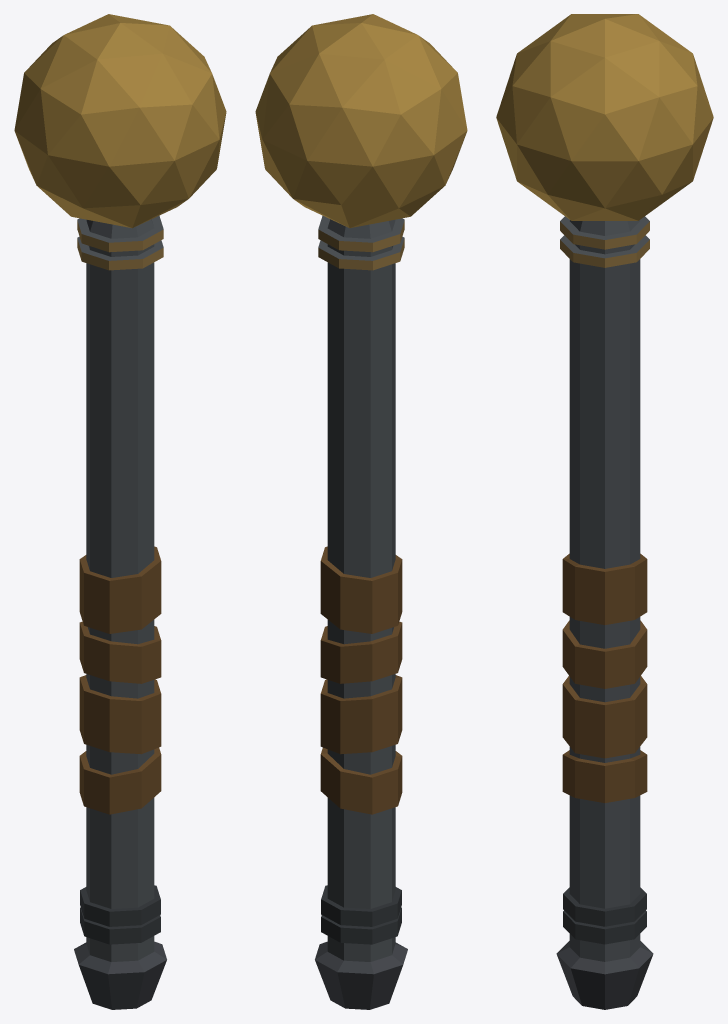
File: Orb_B.glb
3 renders of one model, left to right at view 1: azimuth 30°, elevation 25°; view 2: azimuth 150°, elevation 25°; view 3: azimuth 270°, elevation 25°, orthographic.
Parts seen in each view (by area): view 1: Orb_B; view 2: Orb_B; view 3: Orb_B.
Boxes of the visible parts, x1=… form: Orb_B: x1=14, y1=14, x2=226, y2=1009; Orb_B: x1=255, y1=14, x2=467, y2=1009; Orb_B: x1=496, y1=14, x2=713, y2=1009.
Size of the model in its own units: 0.1098 by 0.572 by 0.1154.
Materials: 1 (1 with a texture image).
